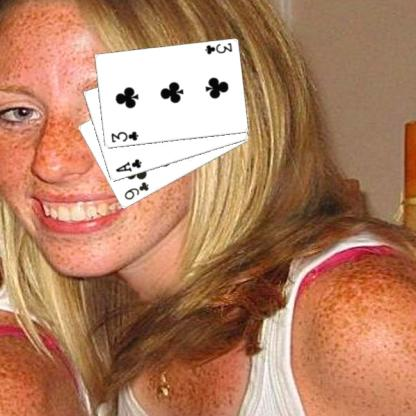3C: (202, 40, 233, 56), (108, 129, 140, 144)
9C: (122, 179, 150, 202)
AC: (113, 156, 142, 174)
